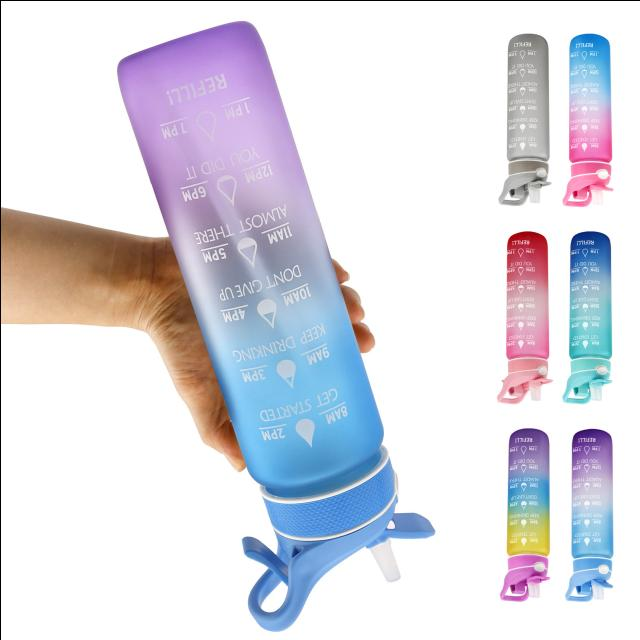plastic_bottle: (77, 13, 460, 595), (486, 207, 616, 415), (502, 426, 620, 614), (503, 24, 620, 198)
